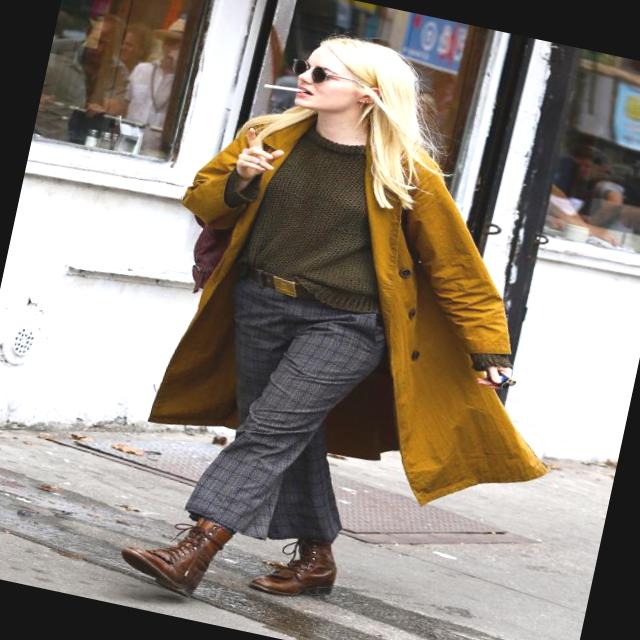smoke: (256, 74, 314, 100)
